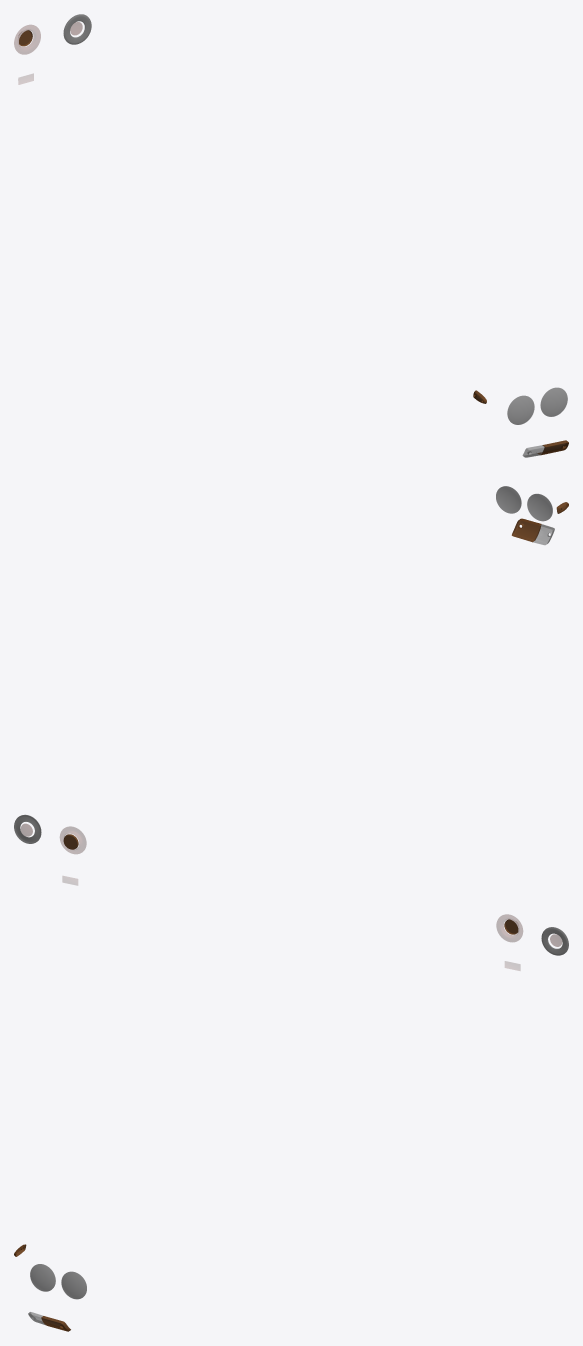
File: lights.glb
3 renders of one model, top to bottom at view 1: azimuth 30°, elevation 25°; view 2: azimuth 150°, elevation 25°; view 3: azimuth 330°, elevation 25°, orthographic. The views are drawn at different scales.
Visible parts, largest first — view 1: WHITE LIGHTS, RED LIGHTS; view 2: WHITE LIGHTS, RED LIGHTS, ORANGE LIGHTS; view 3: WHITE LIGHTS, RED LIGHTS.
Part boxes in pixels (x1,y1,x2,y2): WHITE LIGHTS: [63, 14, 567, 457]; RED LIGHTS: [14, 22, 82, 84]; WHITE LIGHTS: [14, 486, 554, 843]; RED LIGHTS: [21, 824, 86, 885]; ORANGE LIGHTS: [511, 502, 568, 542]; WHITE LIGHTS: [28, 927, 568, 1325]; RED LIGHTS: [496, 914, 561, 970].
Size of the model in its own units: 0.4548 by 0.2907 by 4.06.
